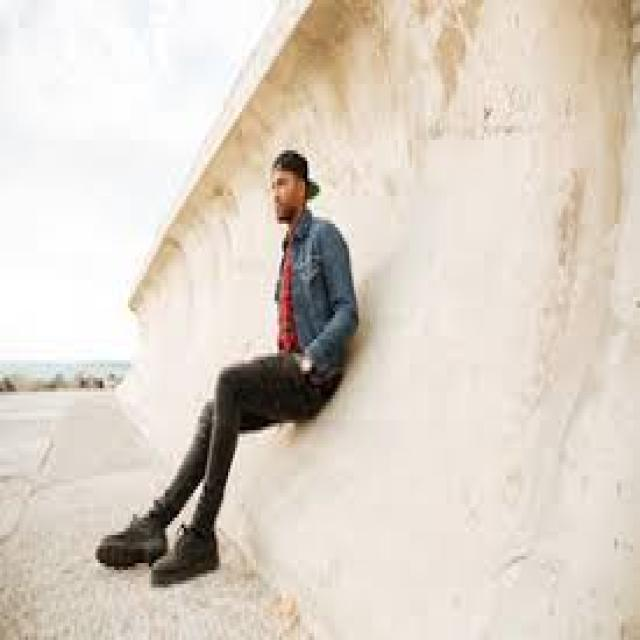cap: (265, 147, 321, 224)
